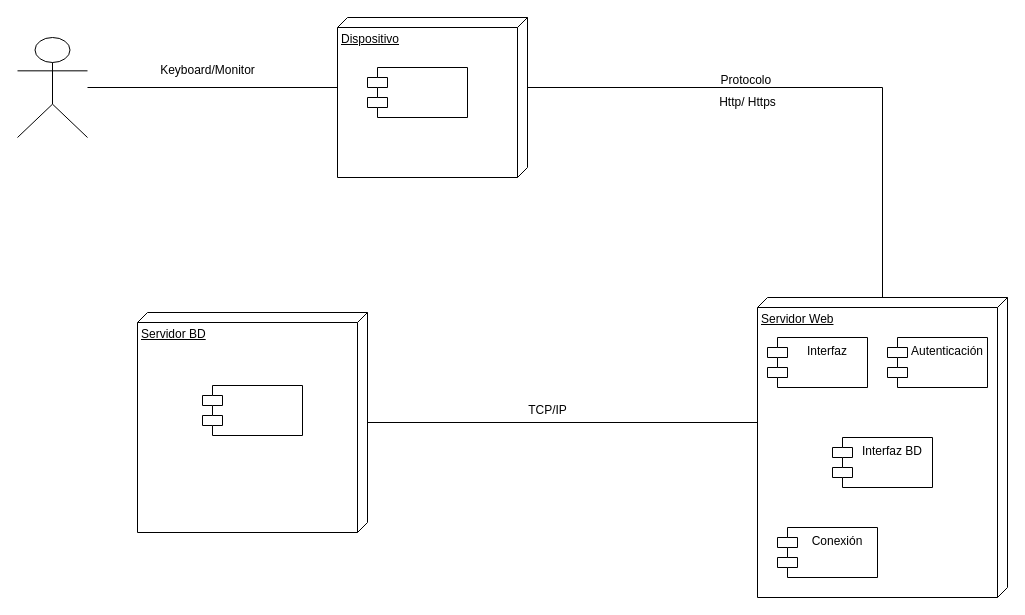
Some shapes in this 1025 by 615 pixel diagram are drawn without their labels. Each missing label, with the centre of its shape:
BD: the point at 252,410
Buscador: the point at 417,92
Cliente: the point at 52,87
